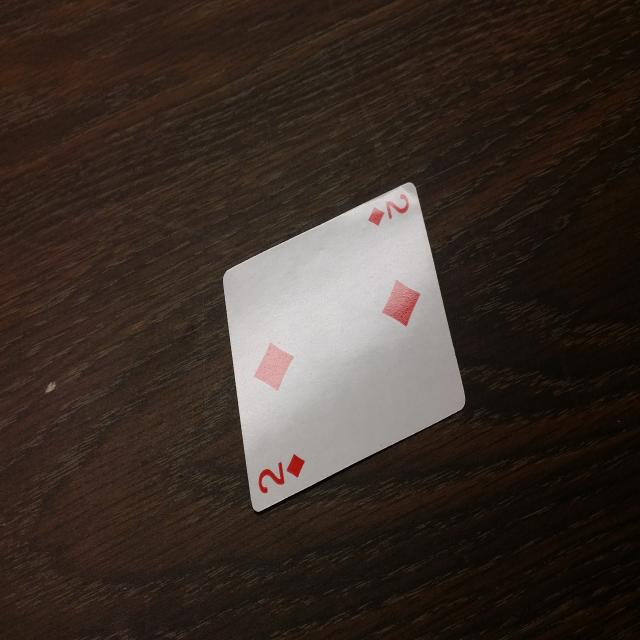2d: (253, 446, 308, 498), (364, 187, 416, 231)
